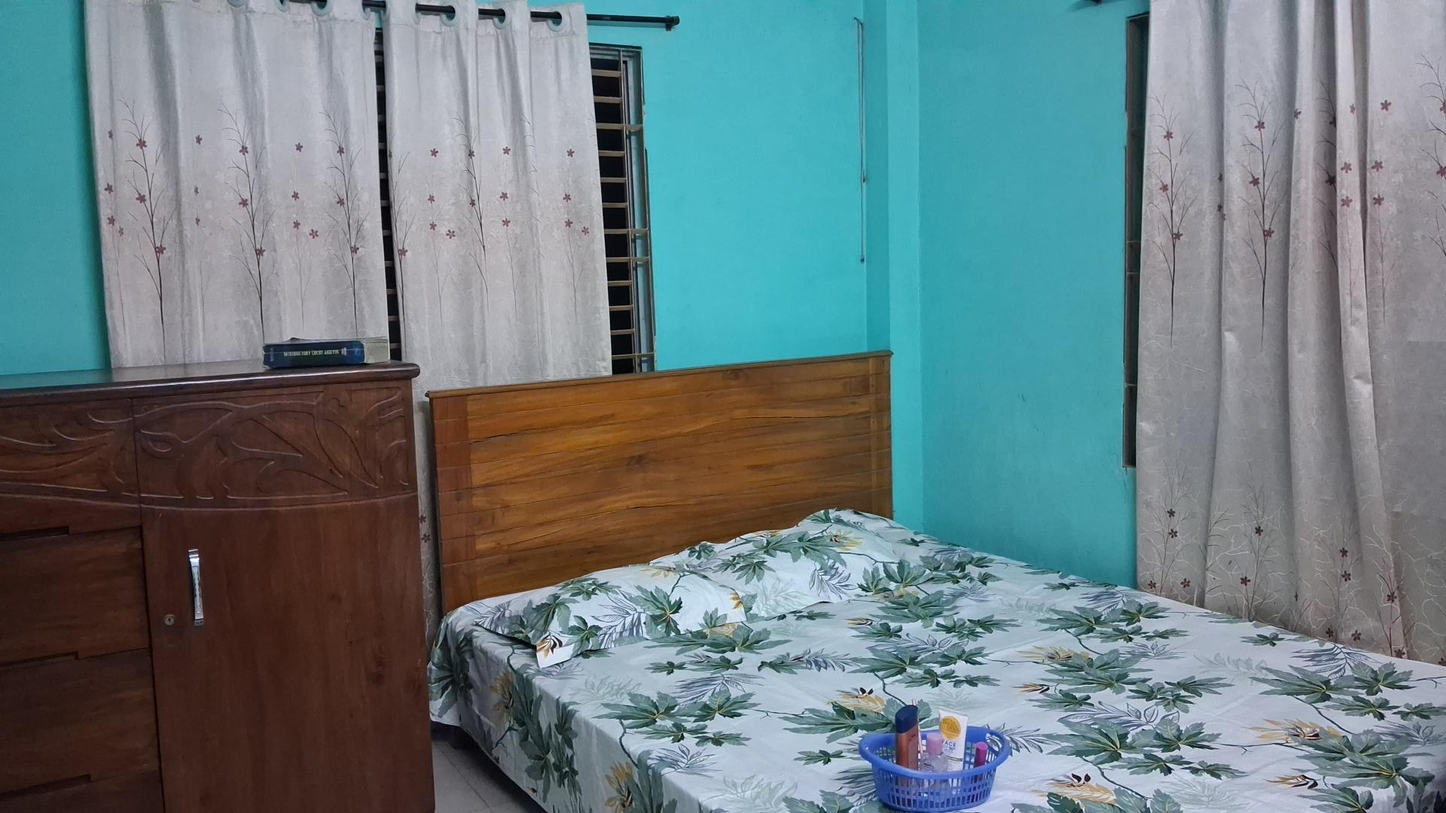Basket: (867, 710, 1006, 808)
Book: (263, 337, 396, 371)
Pillow: (683, 523, 935, 608), (490, 569, 750, 650)
